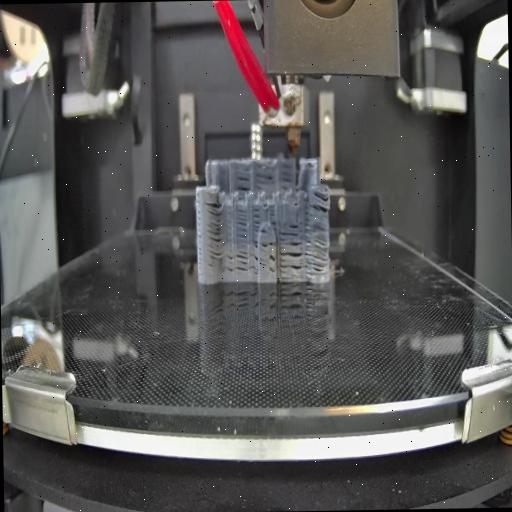cracks: (305, 224, 330, 278), (278, 238, 304, 280), (206, 199, 223, 260), (308, 189, 330, 215), (234, 206, 248, 244), (253, 169, 273, 189), (234, 172, 251, 194), (250, 238, 259, 276), (235, 250, 249, 274), (280, 222, 298, 237), (278, 171, 292, 189), (268, 204, 278, 226), (267, 253, 276, 274), (261, 238, 276, 249), (252, 208, 261, 225), (226, 253, 233, 273), (258, 225, 270, 236)
